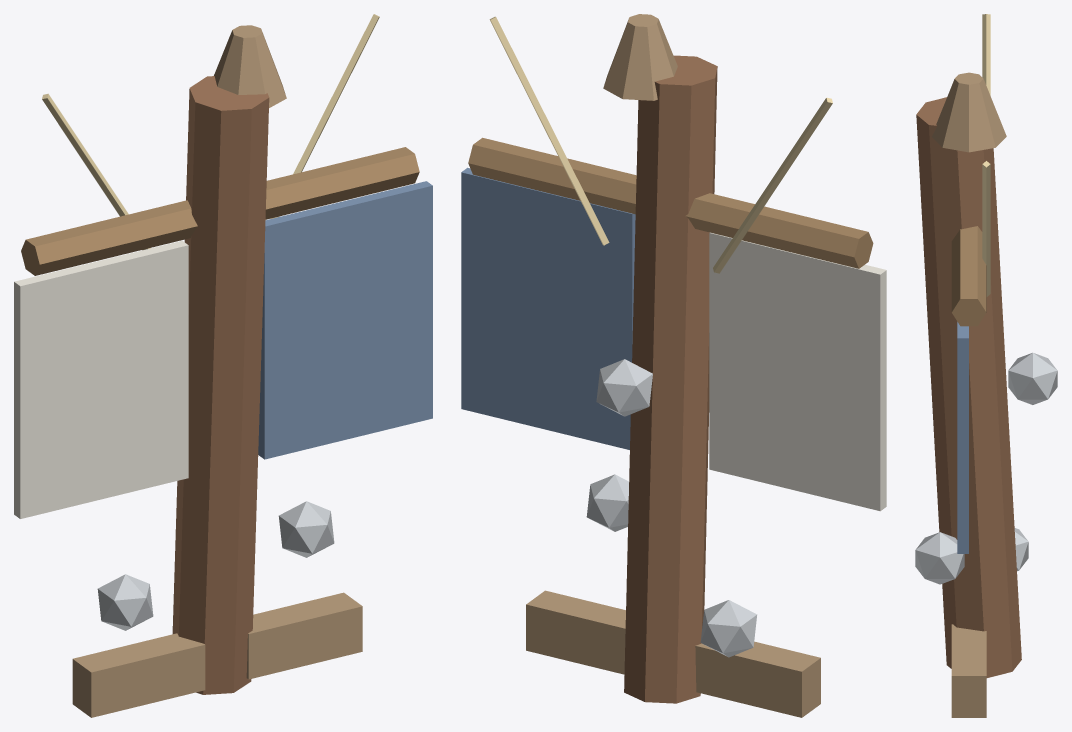
Rendered from shipwreck_mast.glb.
3 renders of one model, left to right at view 1: azimuth 30°, elevation 25°; view 2: azimuth 150°, elevation 25°; view 3: azimuth 270°, elevation 25°, orthographic. The views are drawn at different scales.
Visible parts, largest first — view 1: mast, sail_0, sail_1, yard, splinter_0, splinter_1, break, barnacle_0, barnacle_1, rigging_1, rigging_0; view 2: mast, sail_0, sail_1, yard, splinter_0, splinter_1, break, barnacle_2, barnacle_0, barnacle_1, rigging_0, rigging_1; view 3: mast, break, yard, splinter_1, sail_1, barnacle_2, barnacle_1, rigging_1, rigging_0, barnacle_0.
Part boxes in pixels (x1=…): mast: x1=172, y1=76, x2=269, y2=694; sail_0: x1=14, y1=240, x2=188, y2=518; sail_1: x1=258, y1=181, x2=432, y2=459; yard: x1=21, y1=147, x2=419, y2=275; splinter_0: x1=72, y1=633, x2=205, y2=717; splinter_1: x1=246, y1=592, x2=362, y2=679; break: x1=214, y1=25, x2=286, y2=107; barnacle_0: x1=97, y1=574, x2=153, y2=630; barnacle_1: x1=278, y1=501, x2=334, y2=557; rigging_1: x1=271, y1=14, x2=379, y2=218; rigging_0: x1=42, y1=93, x2=150, y2=250; mast: x1=624, y1=55, x2=717, y2=703; sail_0: x1=709, y1=232, x2=886, y2=511; sail_1: x1=461, y1=167, x2=635, y2=449; yard: x1=468, y1=137, x2=873, y2=268; splinter_0: x1=695, y1=641, x2=820, y2=717; splinter_1: x1=526, y1=590, x2=625, y2=674; break: x1=603, y1=14, x2=677, y2=100; barnacle_2: x1=596, y1=359, x2=652, y2=416; barnacle_0: x1=700, y1=600, x2=757, y2=657; barnacle_1: x1=586, y1=474, x2=628, y2=531; rigging_0: x1=713, y1=97, x2=832, y2=273; rigging_1: x1=489, y1=16, x2=609, y2=245; mast: x1=916, y1=97, x2=1021, y2=677; break: x1=932, y1=72, x2=1006, y2=152; yard: x1=951, y1=226, x2=986, y2=326; splinter_1: x1=951, y1=624, x2=986, y2=717; sail_1: x1=957, y1=322, x2=968, y2=553; barnacle_2: x1=1008, y1=352, x2=1057, y2=404; barnacle_1: x1=915, y1=532, x2=964, y2=584; rigging_1: x1=982, y1=161, x2=990, y2=296; rigging_0: x1=982, y1=14, x2=990, y2=95; barnacle_0: x1=1014, y1=528, x2=1028, y2=571.
Bounding box in the file's own units: 1.52 × 2.28 × 0.4901.
